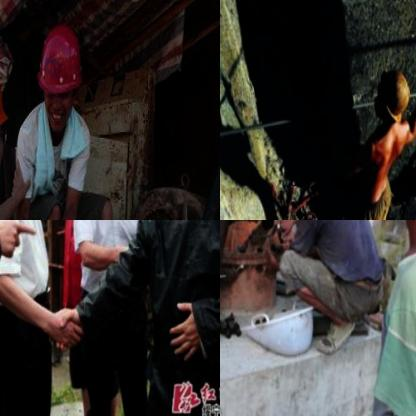helmet: (38, 26, 84, 125), (371, 65, 413, 126)
